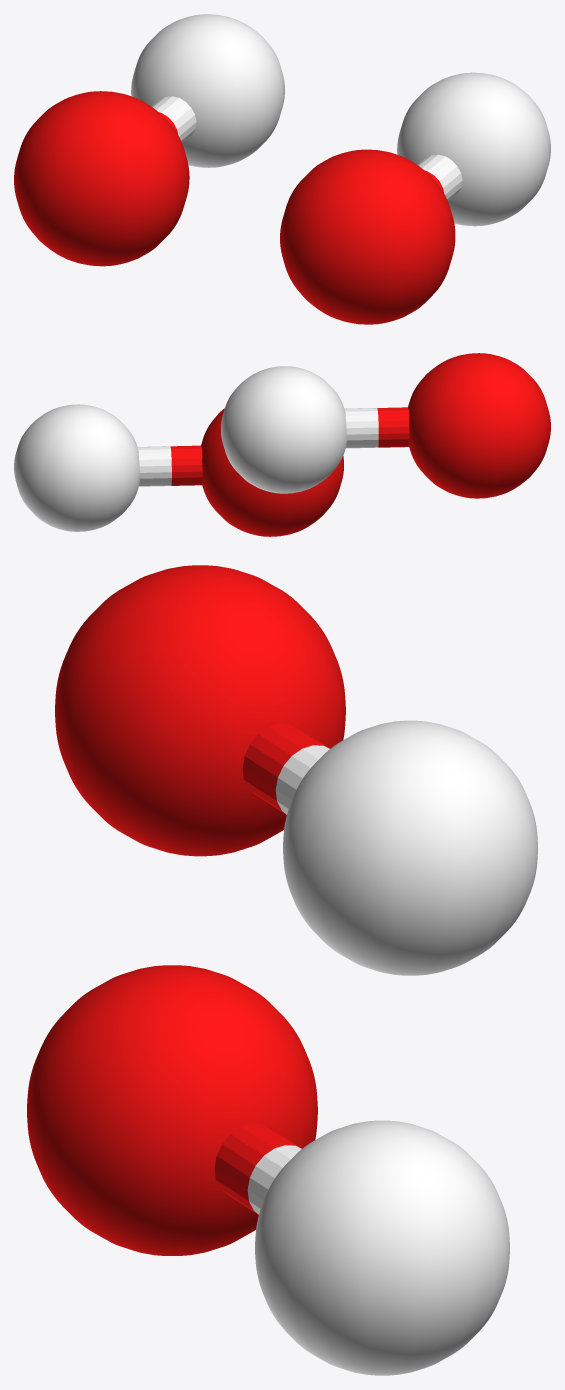
The model's file is hydroxide.obj.
3 renders of one model, top to bottom at view 1: azimuth 30°, elevation 25°; view 2: azimuth 150°, elevation 25°; view 3: azimuth 270°, elevation 25°, orthographic. The views are drawn at different scales.
Visible parts, largest first — view 1: Oxygen_ball_SurfSphere, Oxygen_ball_SurfSphere.001, Hydrogen_ball_SurfSphere.001.001, Hydrogen_ball_SurfSphere.001.000; view 2: Oxygen_ball_SurfSphere.001, Hydrogen_ball_SurfSphere.001.000, Hydrogen_ball_SurfSphere.001.001, Oxygen_ball_SurfSphere, Oxygen_sticks_cylinder.006_Oxygen_sticks_cylinder.020, Oxygen_sticks_cylinder.016, Oxygen_sticks_cylinder.007_Oxygen_sticks_cylinder.021, Oxygen_sticks_cylinder.005_Oxygen_sticks_cylinder.019, Hydrogen_sticks_cylinder.008_Hydrogen_sticks_cylinder.026, Hydrogen_sticks_cylinder.020_Hydrogen_sticks_cylinder.028, Oxygen_sticks_cylinder.017, Hydrogen_sticks_cylinder.010 (+4 smaller); view 3: Oxygen_ball_SurfSphere.001, Oxygen_ball_SurfSphere, Hydrogen_ball_SurfSphere.001.000, Hydrogen_ball_SurfSphere.001.001, Oxygen_sticks_cylinder.016, Oxygen_sticks_cylinder.007_Oxygen_sticks_cylinder.021, Oxygen_sticks_cylinder.017, Oxygen_sticks_cylinder.018, Oxygen_sticks_cylinder.006_Oxygen_sticks_cylinder.020, Oxygen_sticks_cylinder.005_Oxygen_sticks_cylinder.019, Hydrogen_sticks_cylinder.009, Hydrogen_sticks_cylinder.020_Hydrogen_sticks_cylinder.028.
Boxes of the visible parts, bbox=[...] form: Oxygen_ball_SurfSphere: bbox=[280, 149, 455, 324]; Oxygen_ball_SurfSphere.001: bbox=[14, 91, 189, 266]; Hydrogen_ball_SurfSphere.001.001: bbox=[131, 14, 284, 167]; Hydrogen_ball_SurfSphere.001.000: bbox=[397, 72, 550, 226]; Oxygen_ball_SurfSphere.001: bbox=[408, 353, 550, 498]; Hydrogen_ball_SurfSphere.001.000: bbox=[14, 404, 139, 531]; Hydrogen_ball_SurfSphere.001.001: bbox=[221, 366, 346, 493]; Oxygen_ball_SurfSphere: bbox=[201, 408, 343, 536]; Oxygen_sticks_cylinder.006_Oxygen_sticks_cylinder.020: bbox=[387, 407, 398, 447]; Oxygen_sticks_cylinder.016: bbox=[190, 445, 201, 485]; Oxygen_sticks_cylinder.007_Oxygen_sticks_cylinder.021: bbox=[397, 407, 408, 447]; Oxygen_sticks_cylinder.005_Oxygen_sticks_cylinder.019: bbox=[377, 408, 388, 447]; Hydrogen_sticks_cylinder.008_Hydrogen_sticks_cylinder.026: bbox=[347, 408, 358, 448]; Hydrogen_sticks_cylinder.020_Hydrogen_sticks_cylinder.028: bbox=[367, 408, 378, 447]; Oxygen_sticks_cylinder.017: bbox=[180, 446, 191, 485]; Hydrogen_sticks_cylinder.010: bbox=[150, 446, 161, 486]; Oxygen_ball_SurfSphere.001: bbox=[55, 565, 345, 856]; Oxygen_ball_SurfSphere: bbox=[27, 965, 317, 1255]; Hydrogen_ball_SurfSphere.001.000: bbox=[255, 1120, 509, 1375]; Hydrogen_ball_SurfSphere.001.001: bbox=[283, 720, 537, 975]; Oxygen_sticks_cylinder.016: bbox=[215, 1124, 280, 1201]; Oxygen_sticks_cylinder.007_Oxygen_sticks_cylinder.021: bbox=[243, 724, 309, 801]; Oxygen_sticks_cylinder.017: bbox=[226, 1131, 292, 1208]; Oxygen_sticks_cylinder.018: bbox=[236, 1138, 302, 1214]; Oxygen_sticks_cylinder.006_Oxygen_sticks_cylinder.020: bbox=[254, 731, 319, 808]; Oxygen_sticks_cylinder.005_Oxygen_sticks_cylinder.019: bbox=[265, 738, 329, 814]; Hydrogen_sticks_cylinder.009: bbox=[247, 1145, 301, 1214]; Hydrogen_sticks_cylinder.020_Hydrogen_sticks_cylinder.028: bbox=[275, 745, 329, 814].
Bounding box in the file's own units: 0.822 × 0.3777 × 0.3846.
